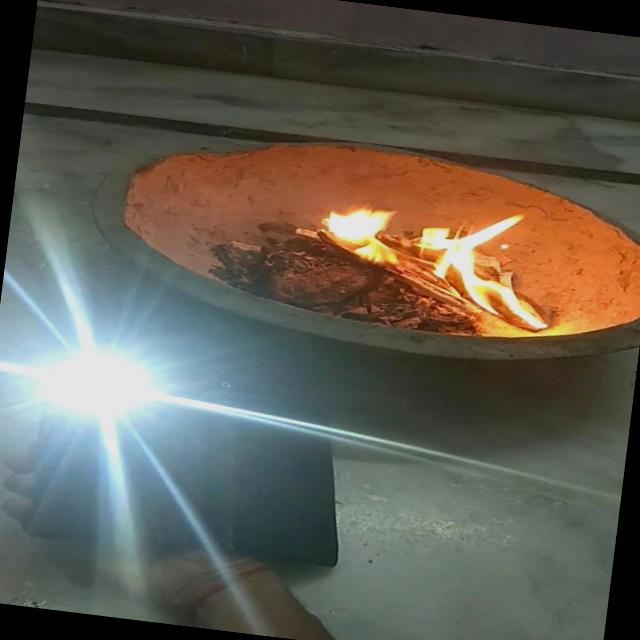fire: (313, 187, 548, 308)
